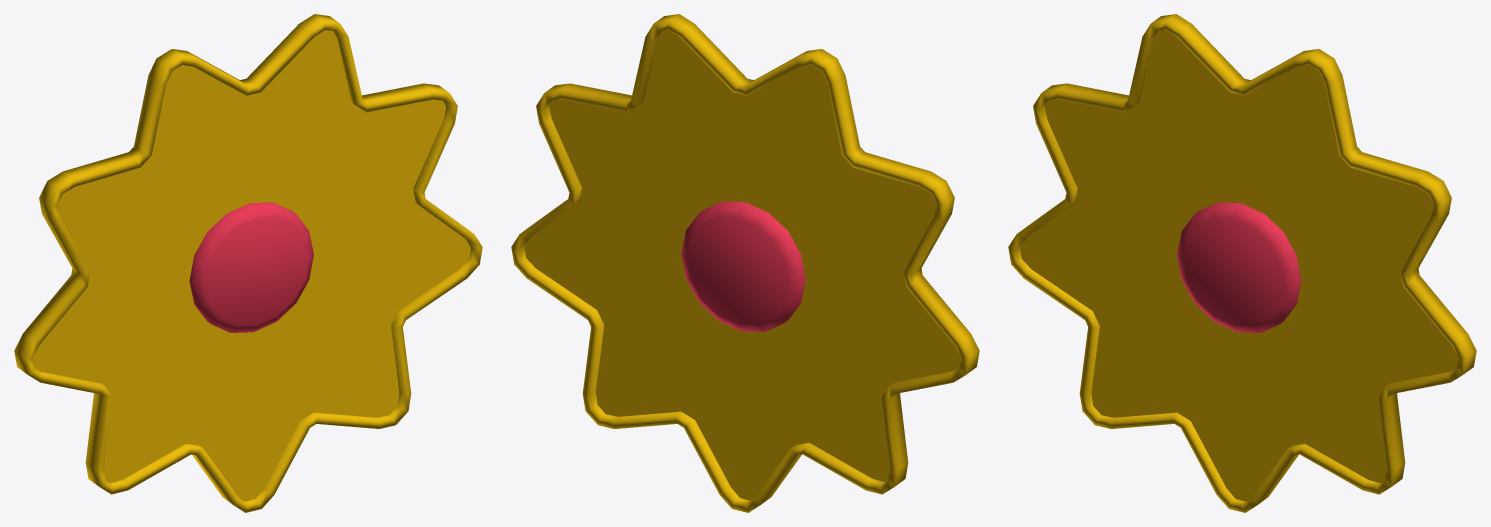
Rendered from Saw_Ground_B.fbx.
The picture shows the model from 3 angles, left to right: view 1: azimuth 30°, elevation 25°; view 2: azimuth 150°, elevation 25°; view 3: azimuth 330°, elevation 25°; orthographic projection.
Visible parts, largest first — view 1: Circle.003; view 2: Circle.003; view 3: Circle.003.
Boxes of the visible parts, box(x1,y1,x2,y2) form: Circle.003: box(14, 14, 482, 512); Circle.003: box(511, 14, 979, 512); Circle.003: box(1008, 14, 1476, 512).
Bounding box in the file's own units: 111 × 109 × 6.83.
